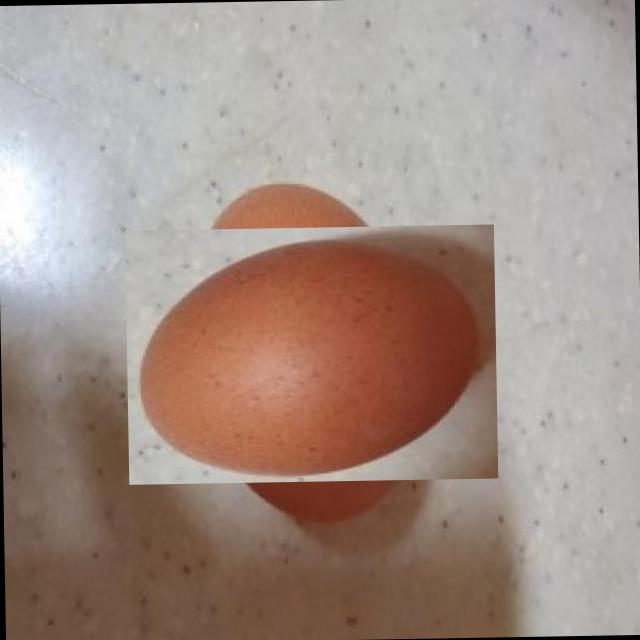eggs: (153, 195, 470, 512)
